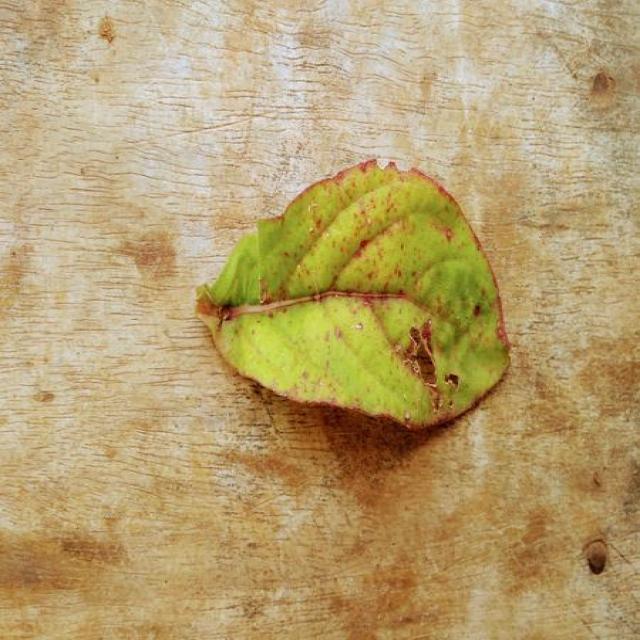globe amarnath: (197, 160, 508, 428)
